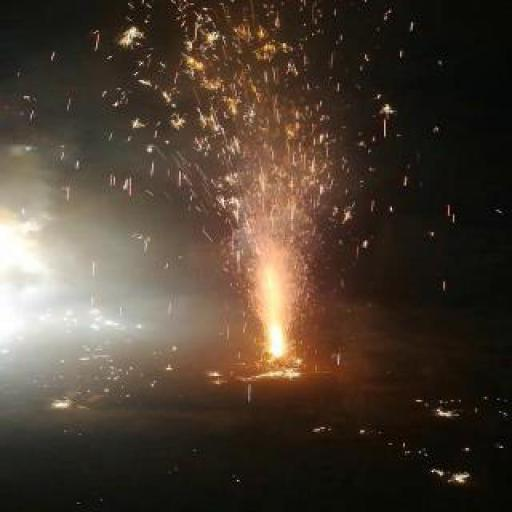smoke: (240, 256, 317, 365)
